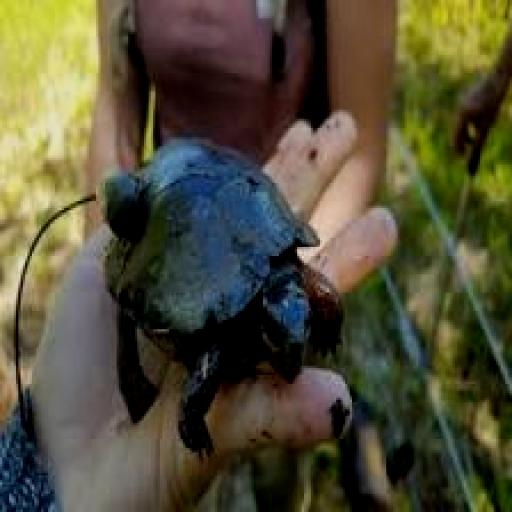turtle: (86, 136, 364, 411)
